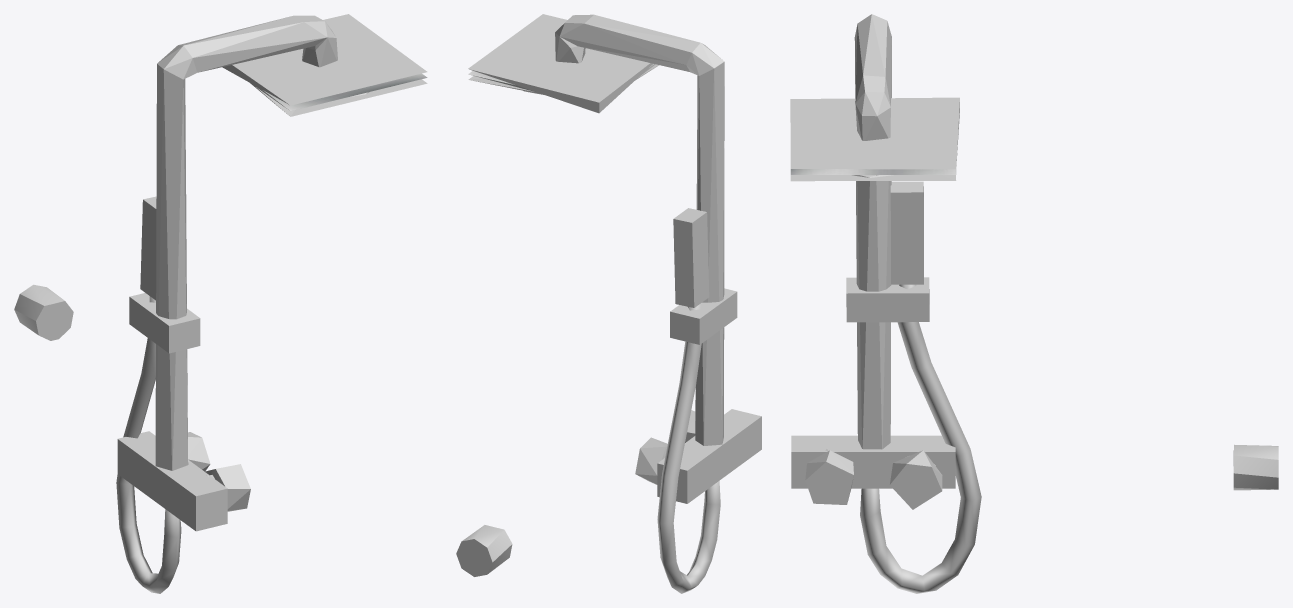
Rendered from intOut_112.fbx.
The picture shows the model from 3 angles, left to right: view 1: azimuth 30°, elevation 25°; view 2: azimuth 150°, elevation 25°; view 3: azimuth 270°, elevation 25°; orthographic projection. The views are drawn at different scales.
Visible parts, largest first — view 1: regadera.001, regadera; view 2: regadera.001; view 3: regadera.001, regadera.
Part boxes in pixels (x1=…): regadera.001: x1=14, y1=14, x2=427, y2=593; regadera: x1=252, y1=73, x2=427, y2=111; regadera.001: x1=456, y1=14, x2=761, y2=593; regadera.001: x1=790, y1=14, x2=1278, y2=593; regadera: x1=790, y1=169, x2=956, y2=175.
Size of the model in its own units: 63.17 by 146 by 110.
Materials: 6 (6 with a texture image).
